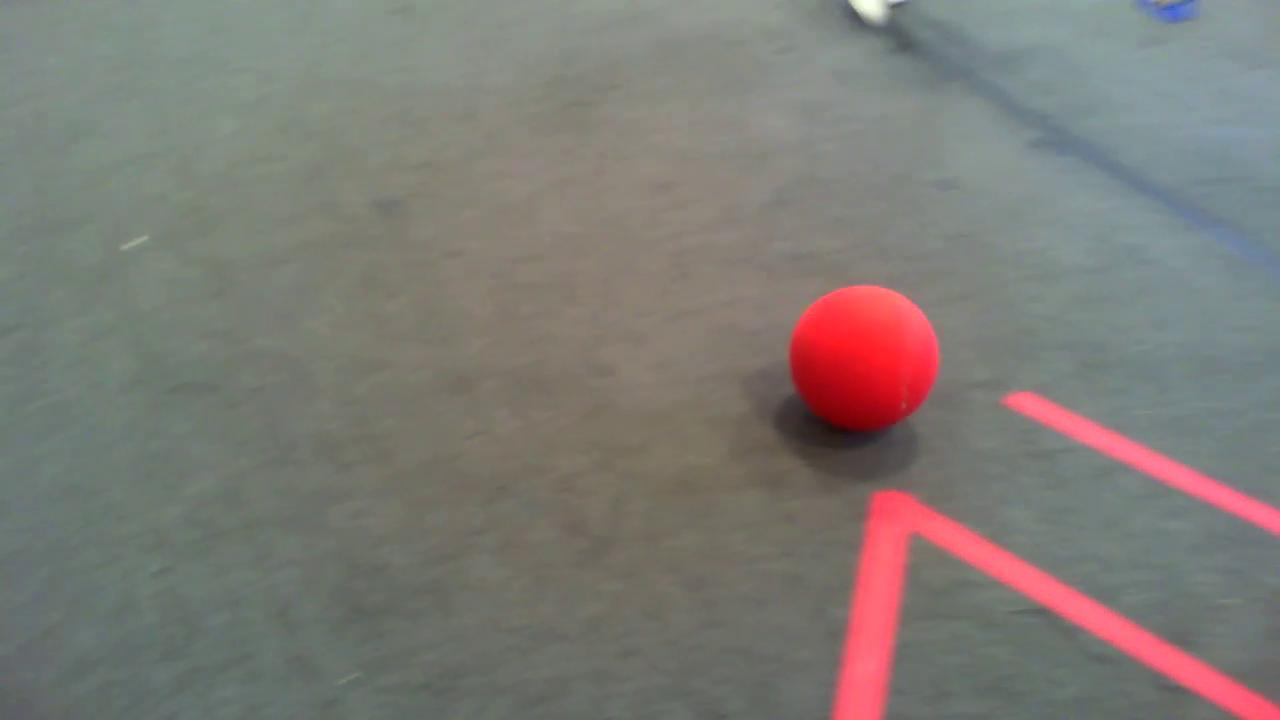Red_Ball: (762, 278, 947, 436)
